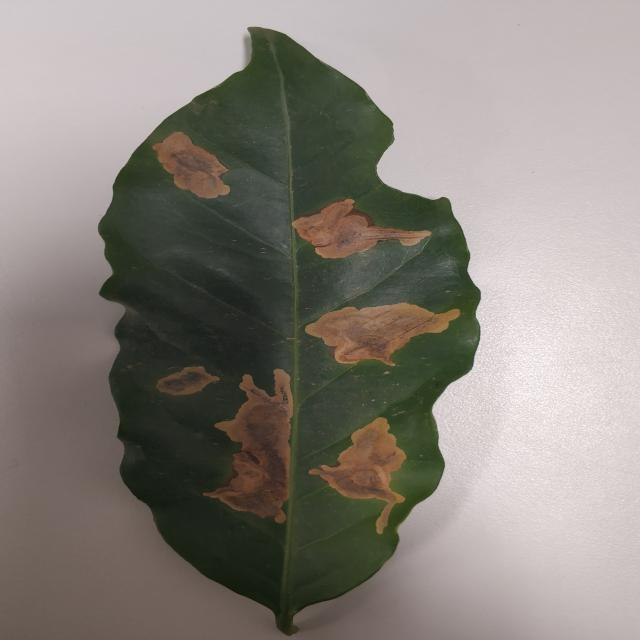Plaga-Minador: (96, 27, 482, 618)
